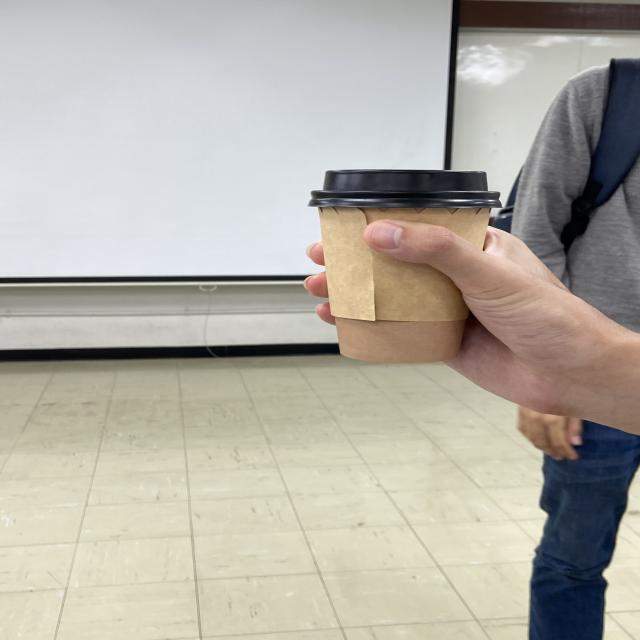cup: (306, 168, 505, 362)
